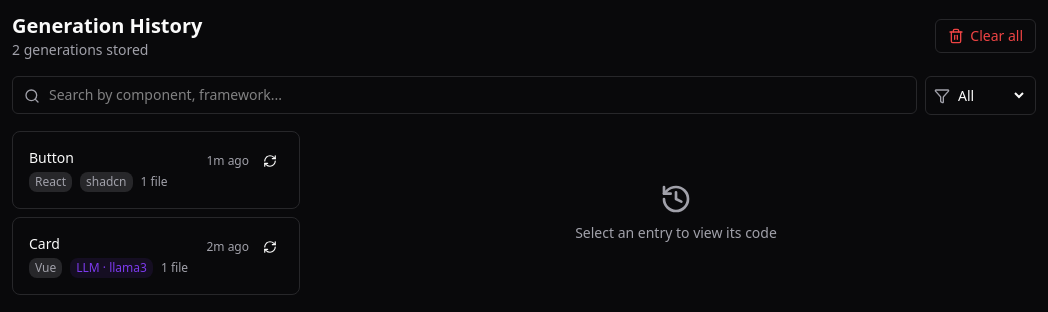
HistoryPage › clears search with X button
This screenshot has width=1048, height=312.
Type "Button" into the field with placeholder "Search by component, framework..." at (464, 95), box [12,76,917,114]
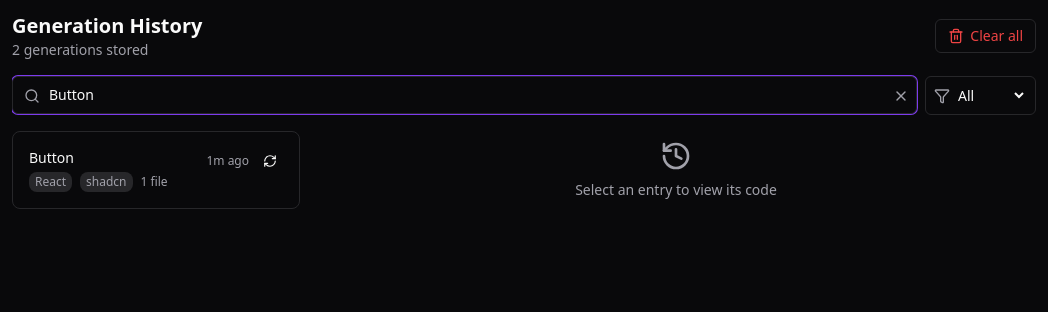
Now the button "Card" is gone
Click the 2nd button at (901, 96), box [893,88,909,104]
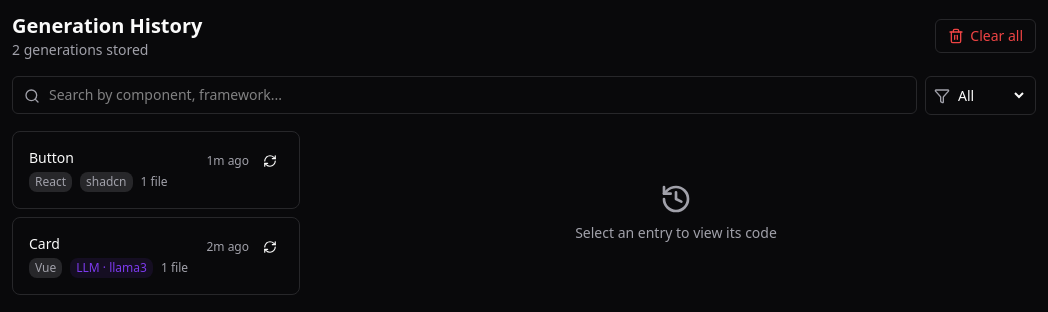
Now the text "Card" is shown, box [29,234,60,253]
